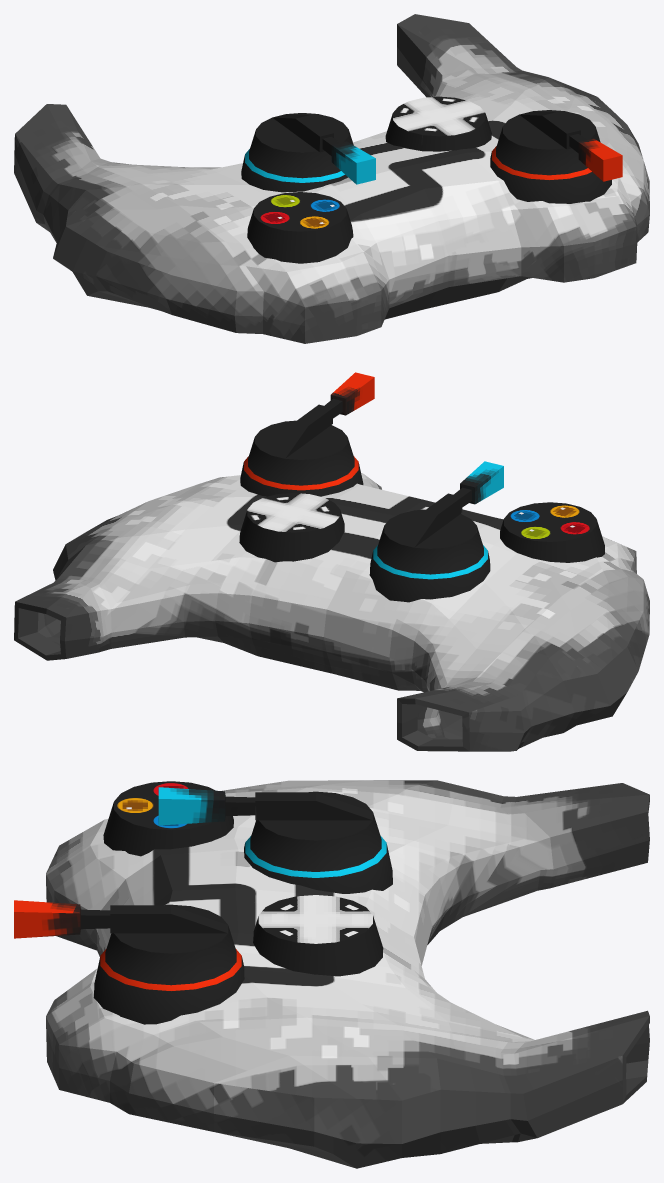
File: FBX_ShipModel_V6_texture.FBX
The picture shows the model from 3 angles, top to bottom: view 1: azimuth 30°, elevation 25°; view 2: azimuth 150°, elevation 25°; view 3: azimuth 270°, elevation 25°; orthographic projection. The views are drawn at different scales.
Parts seen in each view (by area): view 1: Ship, 4_turret1, 4_turret2, 4_buttons, 4_cross; view 2: Ship, 4_turret2, 4_turret1, 4_cross, 4_buttons; view 3: Ship, 4_turret1, 4_turret2, 4_cross, 4_buttons.
Boxes of the visible parts, bbox=[...] form: Ship: bbox=[14, 14, 649, 343]; 4_turret1: bbox=[490, 110, 622, 203]; 4_turret2: bbox=[241, 113, 375, 192]; 4_buttons: bbox=[247, 192, 353, 263]; 4_cross: bbox=[385, 96, 491, 151]; Ship: bbox=[14, 473, 649, 751]; 4_turret2: bbox=[369, 461, 503, 602]; 4_turret1: bbox=[240, 372, 374, 496]; 4_cross: bbox=[239, 493, 344, 562]; 4_buttons: bbox=[500, 502, 604, 562]; Ship: bbox=[46, 780, 649, 1168]; 4_turret1: bbox=[14, 900, 244, 1024]; 4_turret2: bbox=[158, 787, 392, 893]; 4_cross: bbox=[253, 895, 383, 976]; 4_buttons: bbox=[103, 781, 233, 856].
Bounding box in the file's own units: 143 × 41.3 × 115.
